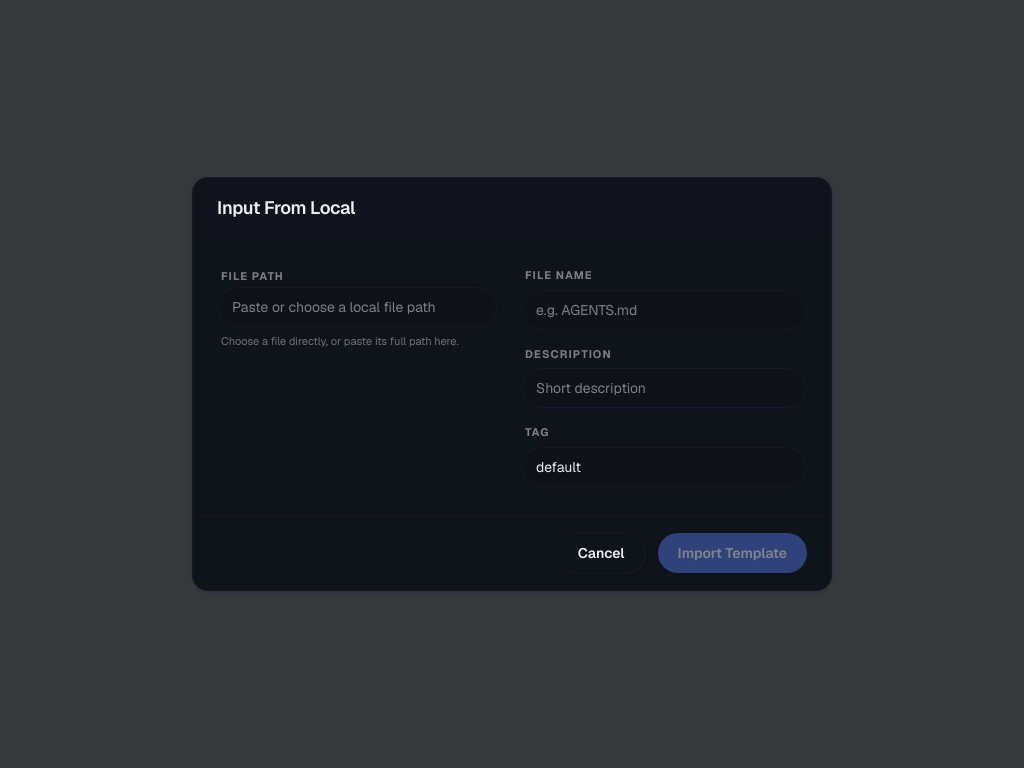
Test case: ImportTemplateDialog › shows the local input form and derives file name from selection
Type "/workspace/hk/.codex/AGENTS.md" into the field labelled "File path" at x=357, y=307, box [217,287,497,327]
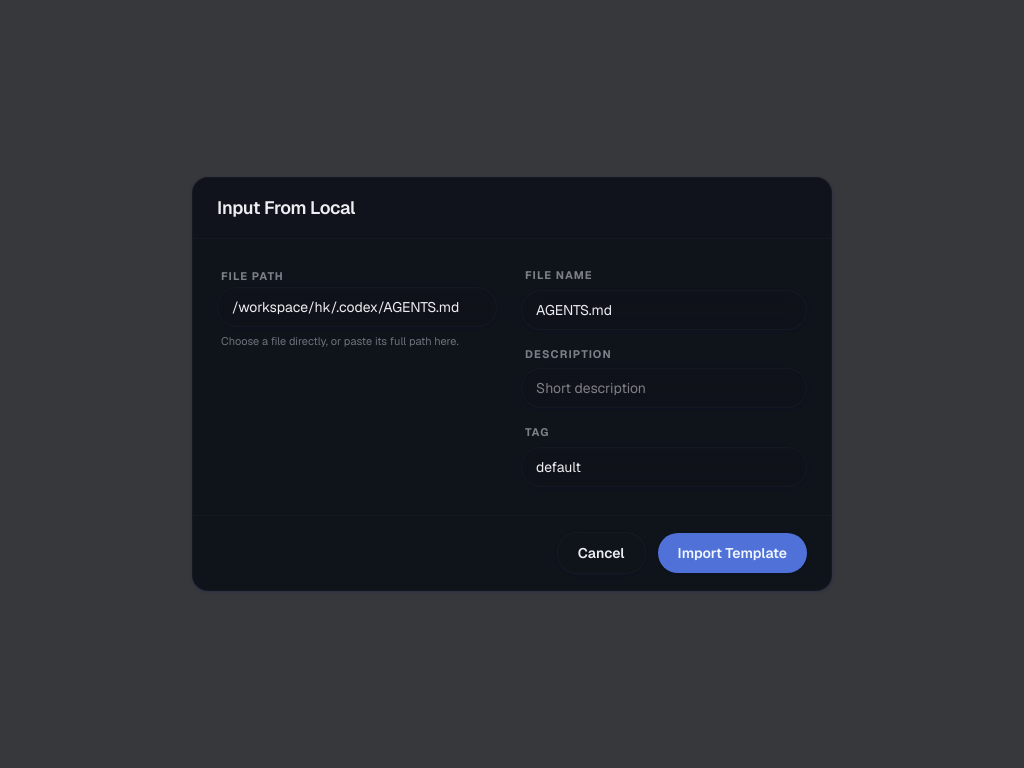
Expected: the field labelled "File name" holds "AGENTS.md", [521,290,807,330]
